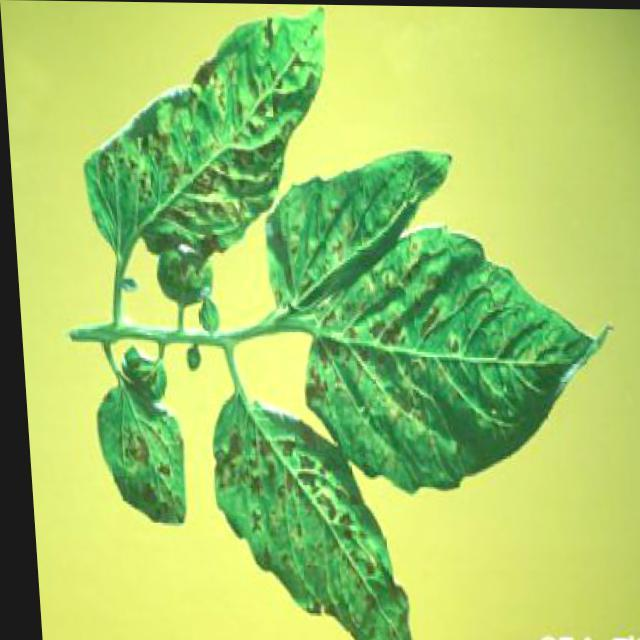Tomato late blight leaf: (275, 207, 616, 479), (76, 2, 350, 292), (193, 388, 414, 639), (223, 142, 489, 308), (88, 374, 191, 532)
